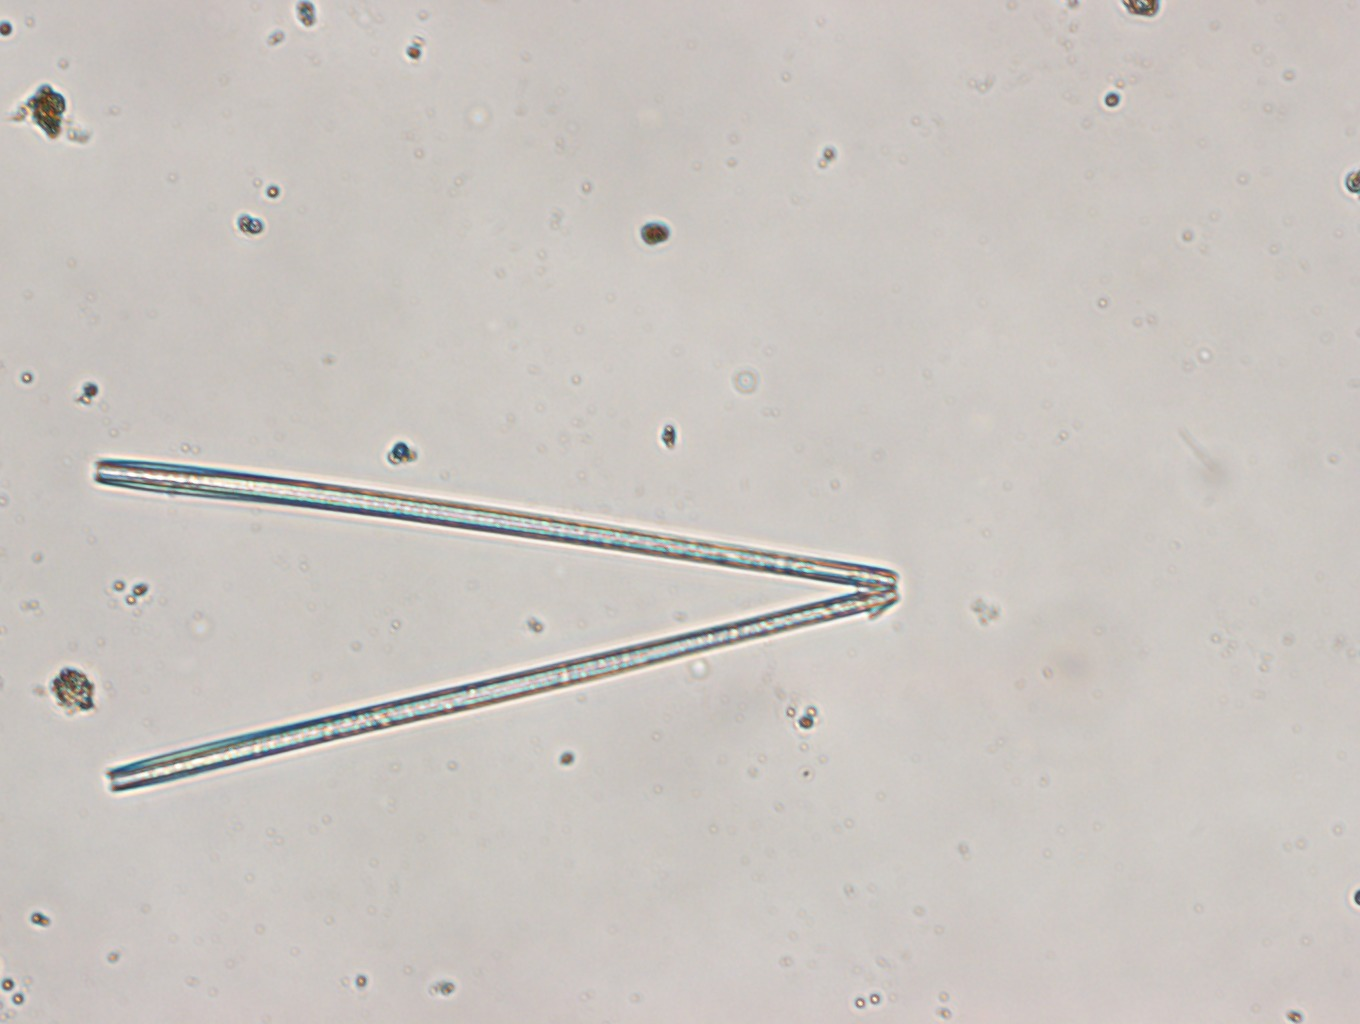thalassionema frauenfeldii: (82, 451, 926, 801)
